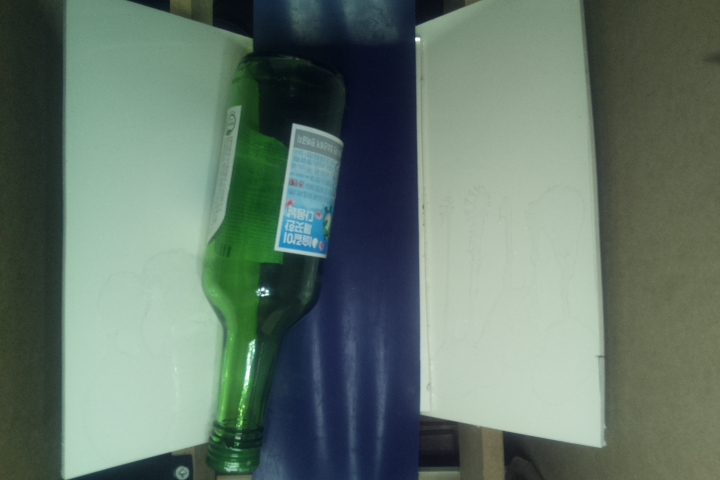soju: (197, 52, 351, 480)
